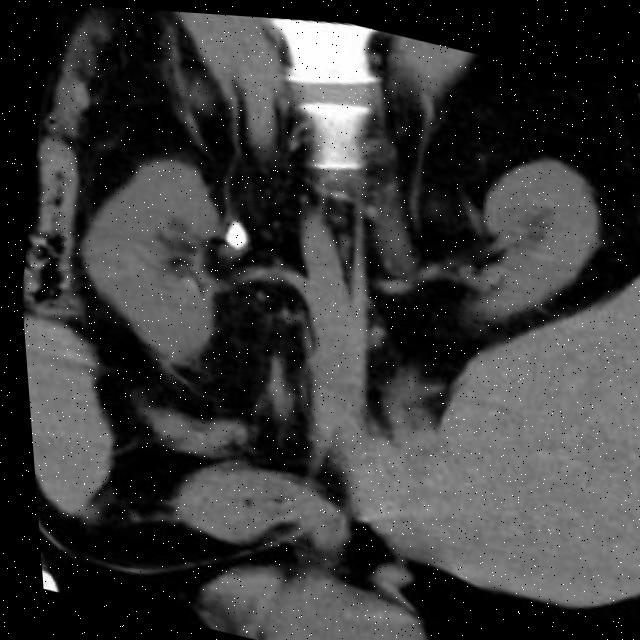Tas_Var: (213, 210, 249, 252)
